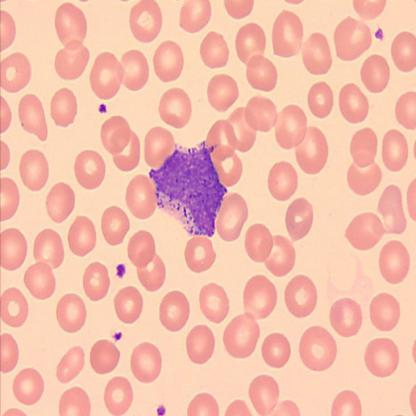Myelocyte: (150, 140, 228, 238)
